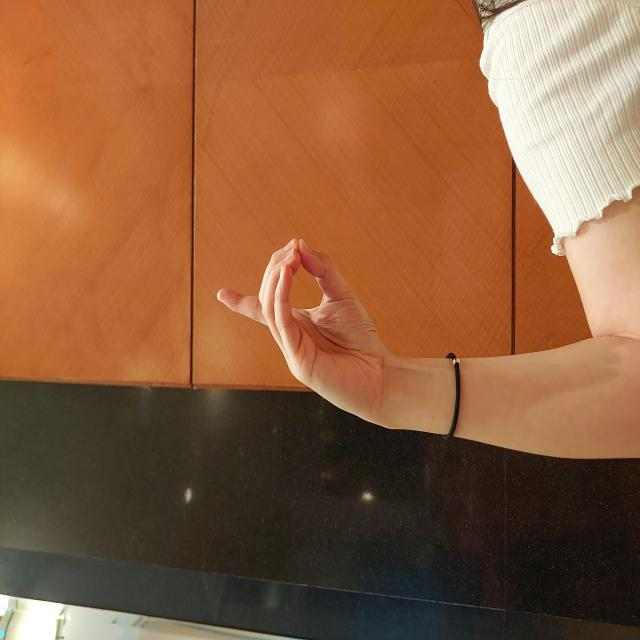D: (242, 215, 403, 388)
